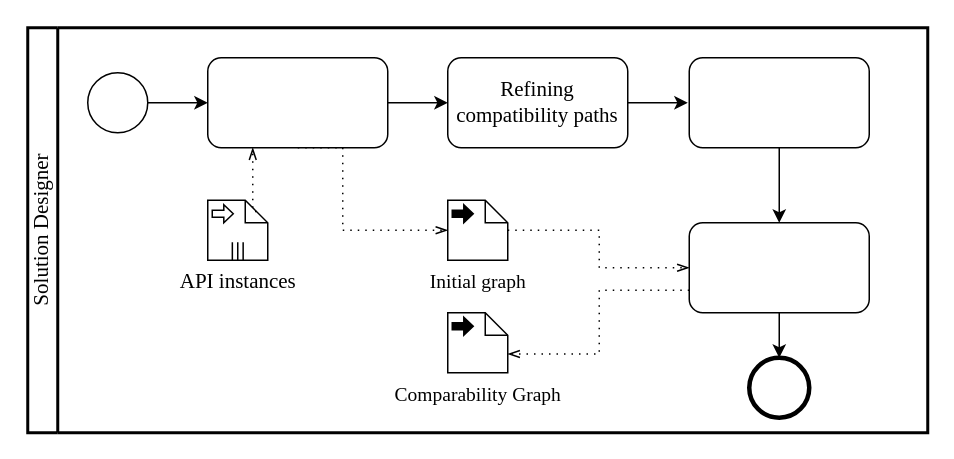
This 954x459 diagram has some shape labels left out. Here are the shapes that lost their labels. From the top down, the centre of each, then its label:
At [297,102]: "Generating initial Compatibility Graph".
At [778,102]: "Ranking composition patterns".
At [778,267]: "Generating final Compatiblity Graph".
